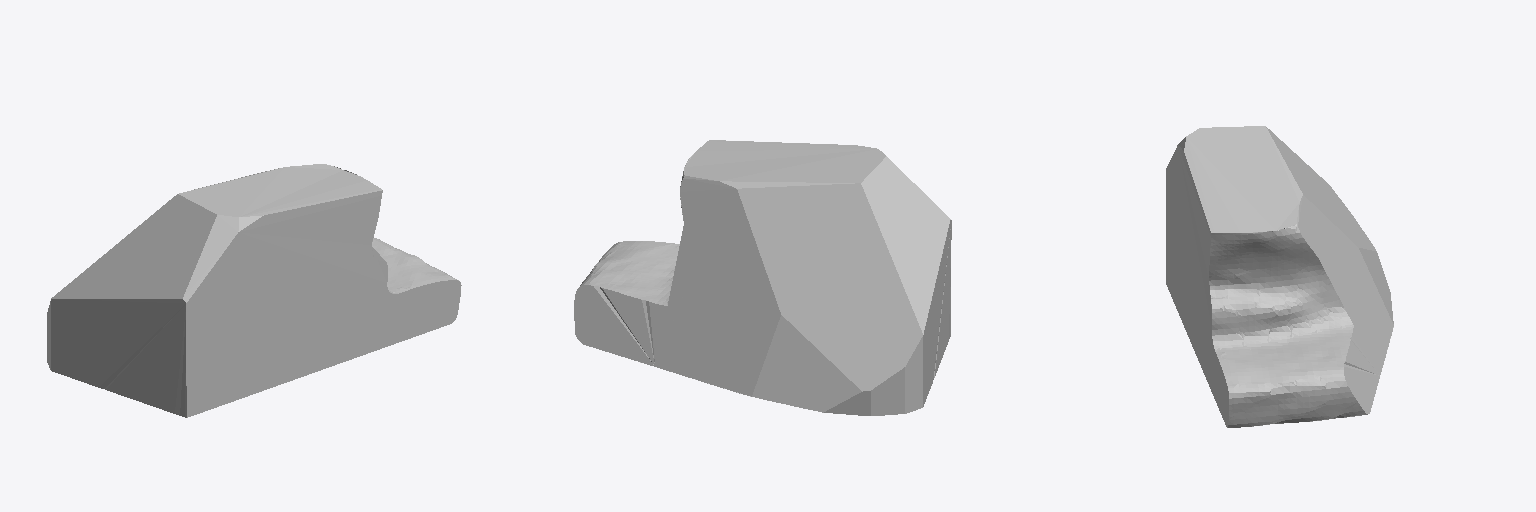
File: low_cell_061.obj
3 views of the same model, side by side, from view 1: azimuth 30°, elevation 25°; view 2: azimuth 150°, elevation 25°; view 3: azimuth 270°, elevation 25° (orthographic).
Visible parts, largest first — view 1: low_cell.061_low_cell.060; view 2: low_cell.061_low_cell.060; view 3: low_cell.061_low_cell.060.
Boxes of the visible parts, x1=… form: low_cell.061_low_cell.060: x1=47, y1=164, x2=461, y2=417; low_cell.061_low_cell.060: x1=574, y1=140, x2=951, y2=415; low_cell.061_low_cell.060: x1=1166, y1=126, x2=1393, y2=427.
Bounding box in the file's own units: 1.32 × 0.6266 × 0.7211.